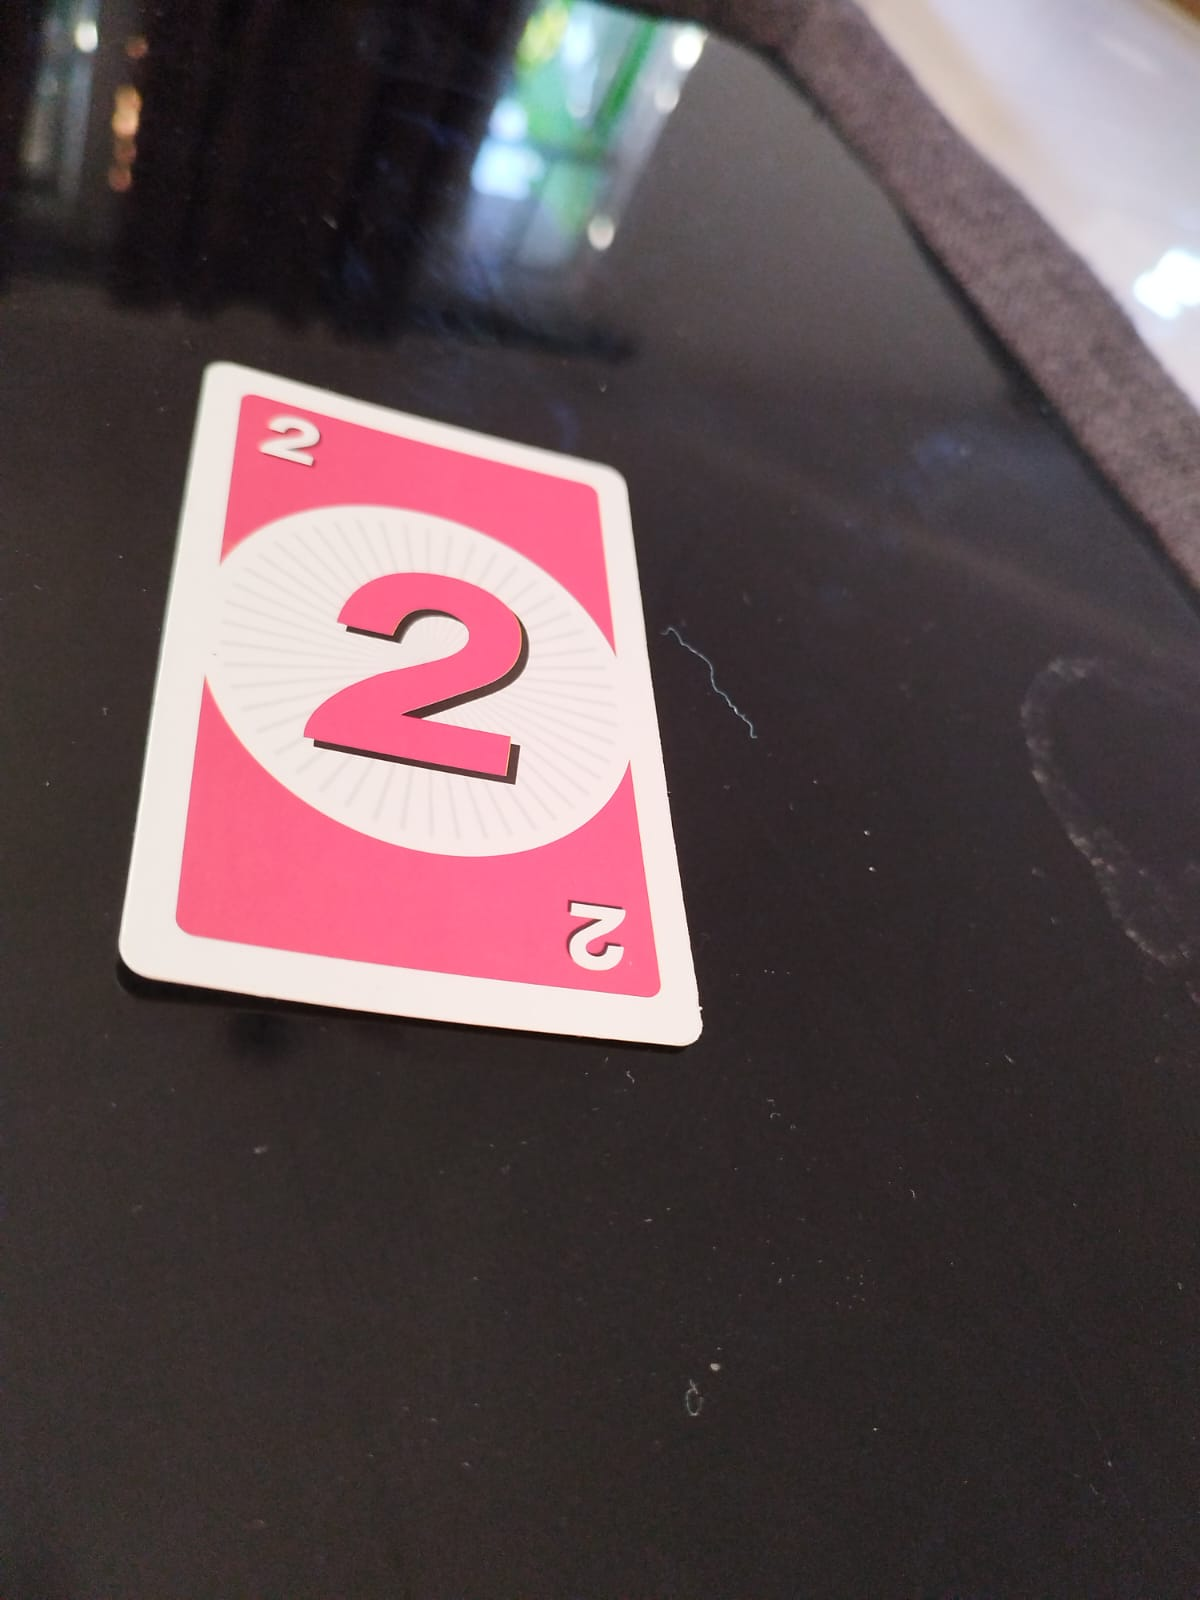8_red: (297, 556, 538, 786), (553, 883, 643, 980), (261, 409, 328, 474)
